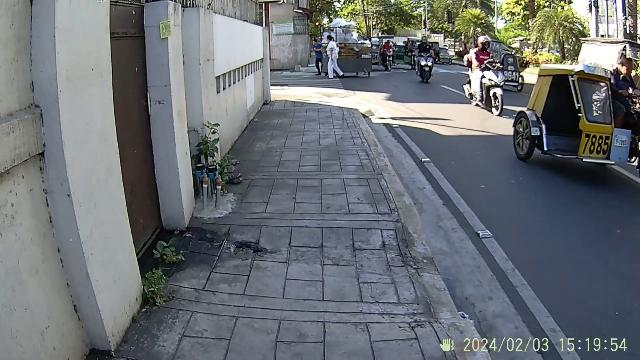construction_materials: (194, 160, 228, 212)
tricycle: (516, 38, 640, 190)
